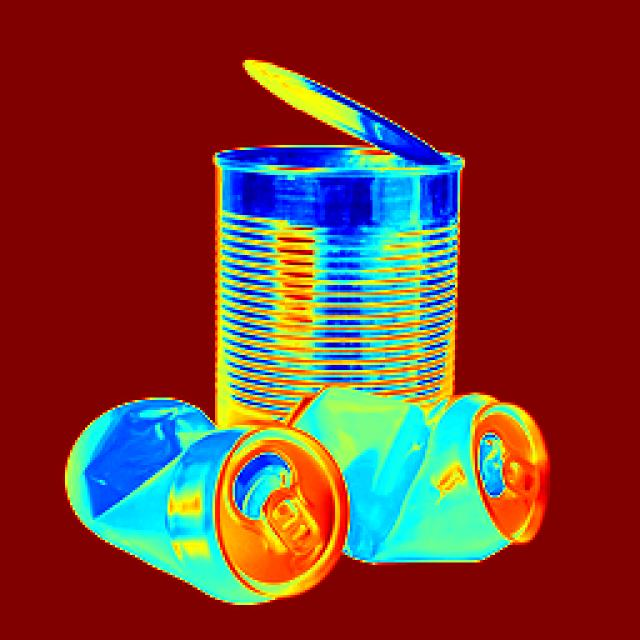Aluminium Food Cans: (225, 48, 450, 382), (298, 393, 533, 565), (124, 384, 301, 597)
